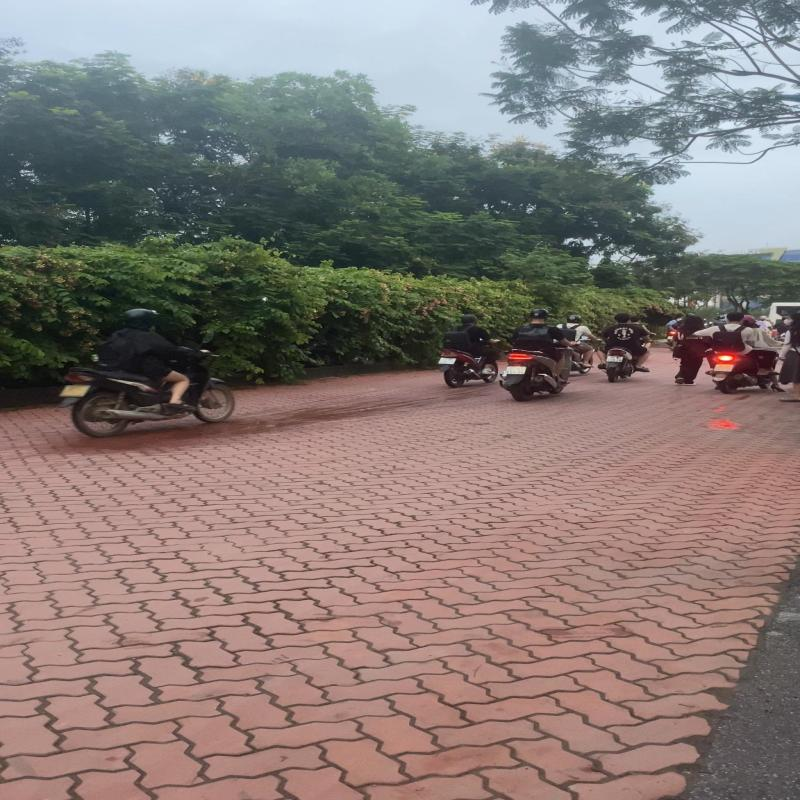helmet: (118, 308, 160, 326)
licenseplate: (58, 384, 92, 397)
motorcyclist: (56, 307, 238, 438)
